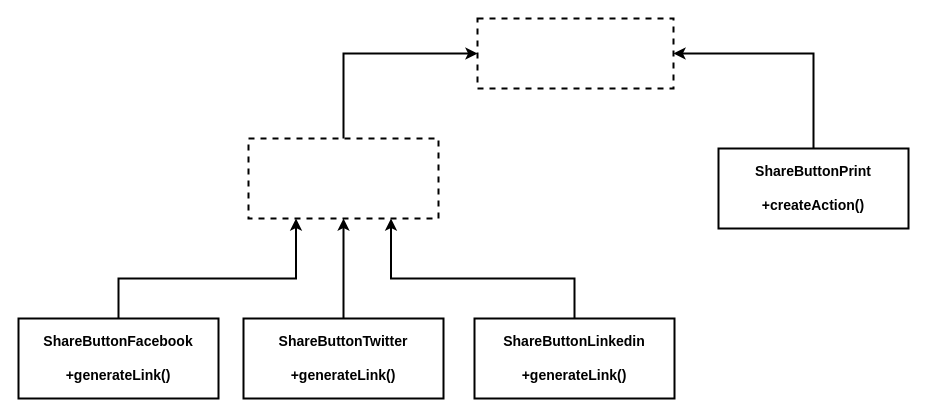
Image size: 926x416. Some labels were removed from this diagram. The shapes that lost their labels are listed below. From the top down, each one's centre as x and y in pixels, then its label:
At point (575, 53): "AbastractShareButton +bind() # createAction ()".
At point (343, 178): "AbastractLinkShareButton +createAction() #generateLink()".
